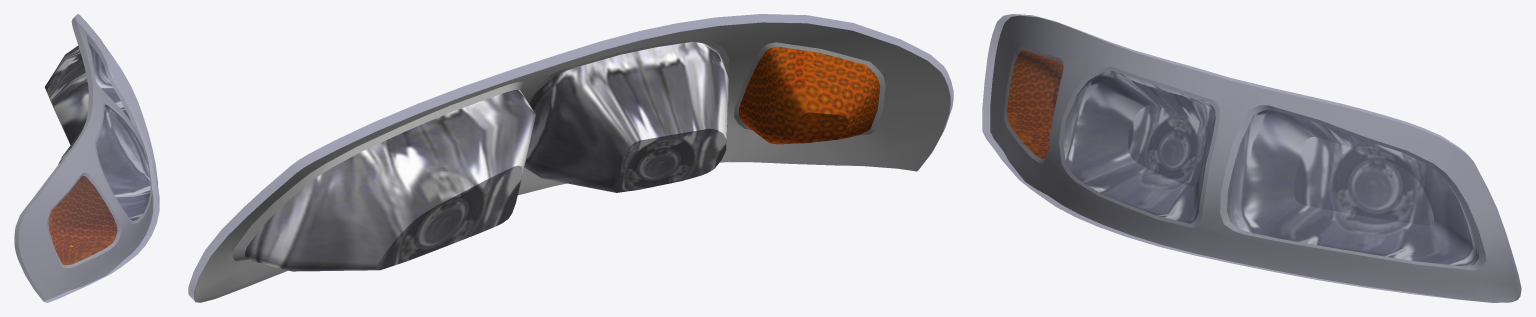
3 renders of one model, left to right at view 1: azimuth 30°, elevation 25°; view 2: azimuth 150°, elevation 25°; view 3: azimuth 270°, elevation 25°, orthographic. The views are drawn at different scales.
Visible parts, largest first — view 1: Z176_061B_R_Z176_061B_R_6_DTaSI, Z176_061B_R_Z176_061B_R_4_DaS, Z176_061B_R_Z176_061B_R_3_N, Z176_061B_R_Z176_061B_R_2_N, Z176_061B_R_1_N_Z176_061B_R; view 2: Z176_061B_R_1_N_Z176_061B_R, Z176_061B_R_Z176_061B_R_4_DaS, Z176_061B_R_Z176_061B_R_2_N, Z176_061B_R_Z176_061B_R_3_N, Z176_061B_R_Z176_061B_R_6_DTaSI; view 3: Z176_061B_R_Z176_061B_R_6_DTaSI, Z176_061B_R_Z176_061B_R_4_DaS, Z176_061B_R_1_N_Z176_061B_R, Z176_061B_R_Z176_061B_R_2_N, Z176_061B_R_Z176_061B_R_3_N.
Boxes of the visible parts, <box> form: Z176_061B_R_Z176_061B_R_6_DTaSI: <box>14,14,159,302</box>; Z176_061B_R_Z176_061B_R_4_DaS: <box>14,18,153,301</box>; Z176_061B_R_Z176_061B_R_3_N: <box>48,176,117,265</box>; Z176_061B_R_Z176_061B_R_2_N: <box>58,105,150,220</box>; Z176_061B_R_1_N_Z176_061B_R: <box>45,43,130,144</box>; Z176_061B_R_1_N_Z176_061B_R: <box>244,90,535,271</box>; Z176_061B_R_Z176_061B_R_4_DaS: <box>194,22,950,302</box>; Z176_061B_R_Z176_061B_R_2_N: <box>524,42,728,192</box>; Z176_061B_R_Z176_061B_R_3_N: <box>739,46,880,144</box>; Z176_061B_R_Z176_061B_R_6_DTaSI: <box>188,14,953,300</box>; Z176_061B_R_Z176_061B_R_6_DTaSI: <box>982,14,1520,302</box>; Z176_061B_R_Z176_061B_R_4_DaS: <box>990,15,1521,302</box>; Z176_061B_R_1_N_Z176_061B_R: <box>1227,110,1478,266</box>; Z176_061B_R_Z176_061B_R_2_N: <box>1063,71,1215,223</box>; Z176_061B_R_Z176_061B_R_3_N: <box>1007,50,1063,158</box>.
Bounding box in the file's own units: 44.78 × 17.02 × 54.75.
